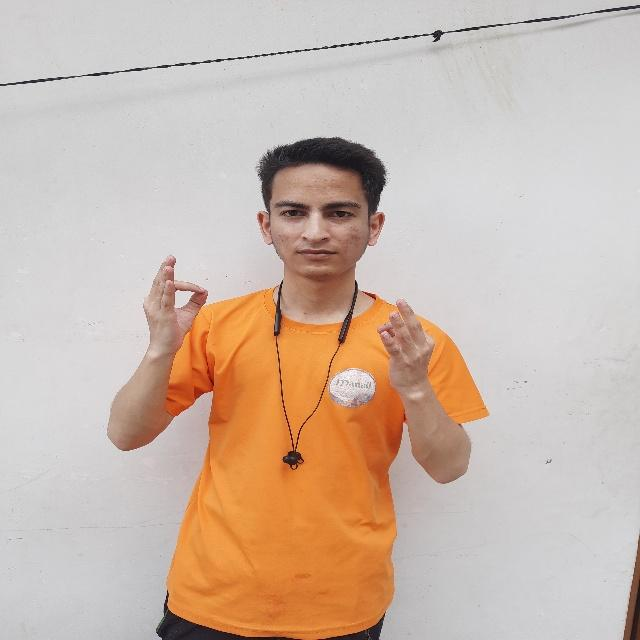Okay: (136, 245, 212, 357)
